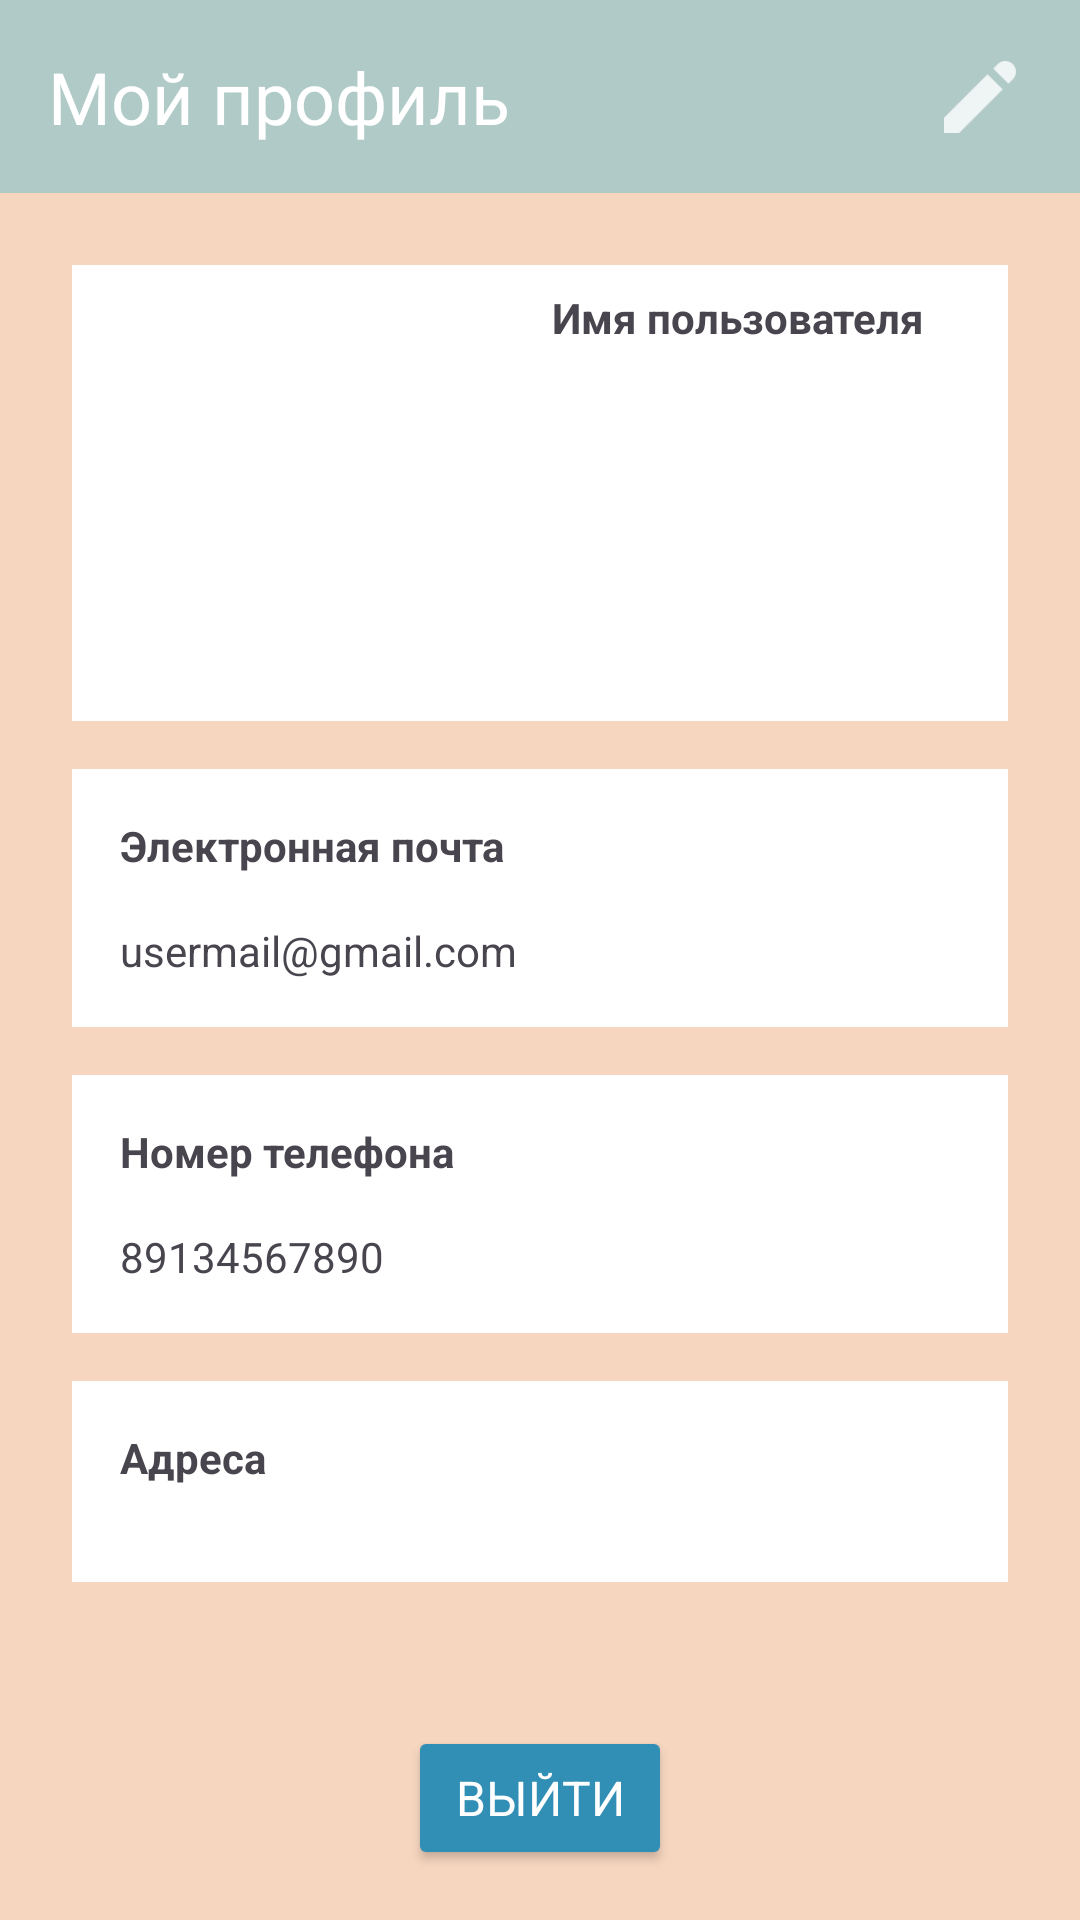

Icons on this 1080x1920 Android screen, each with its box as bbox(x1, y1, x2, y2):
edit: bbox(944, 61, 1016, 133)
